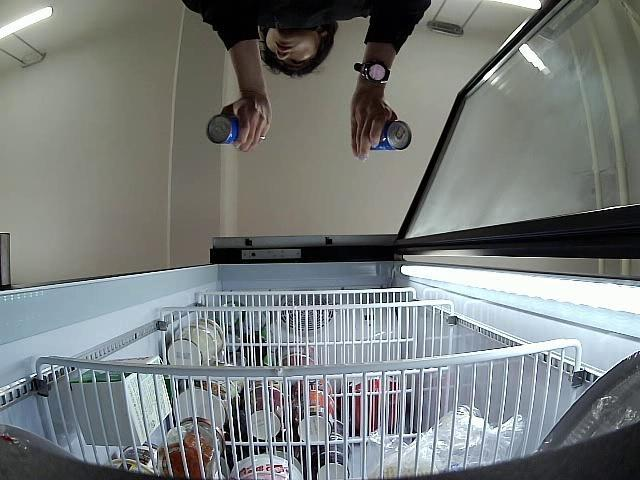15_letsbe: (370, 120, 413, 151), (206, 116, 238, 147)
